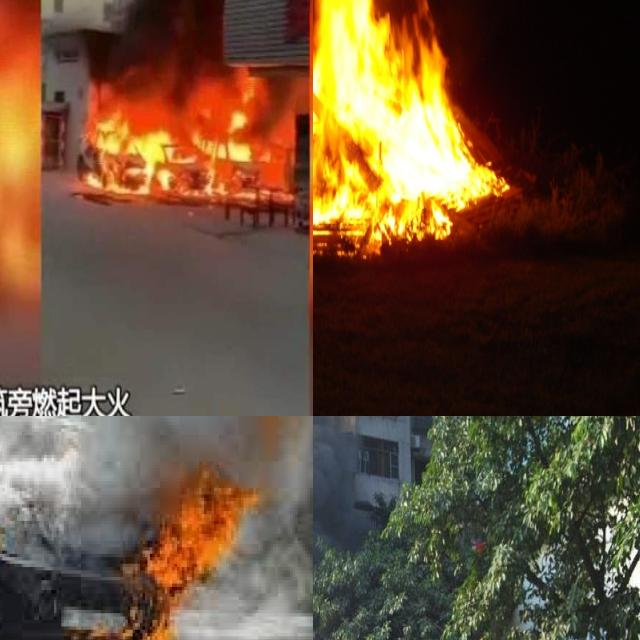fire: (313, 0, 508, 257), (105, 448, 280, 640), (79, 72, 296, 202)
smoke: (0, 416, 313, 537), (104, 0, 247, 94), (171, 547, 312, 640)
